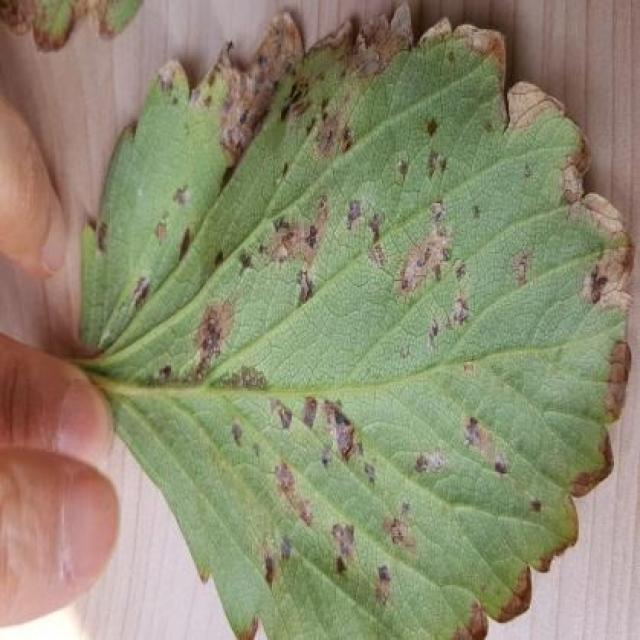Angular Leafspot: (77, 0, 638, 638)
